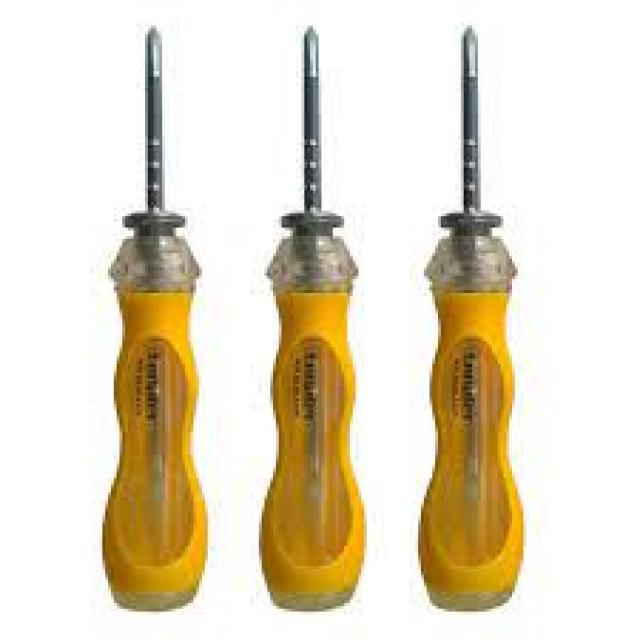screwdriver: (254, 21, 368, 613), (416, 22, 526, 618), (101, 14, 209, 617)
